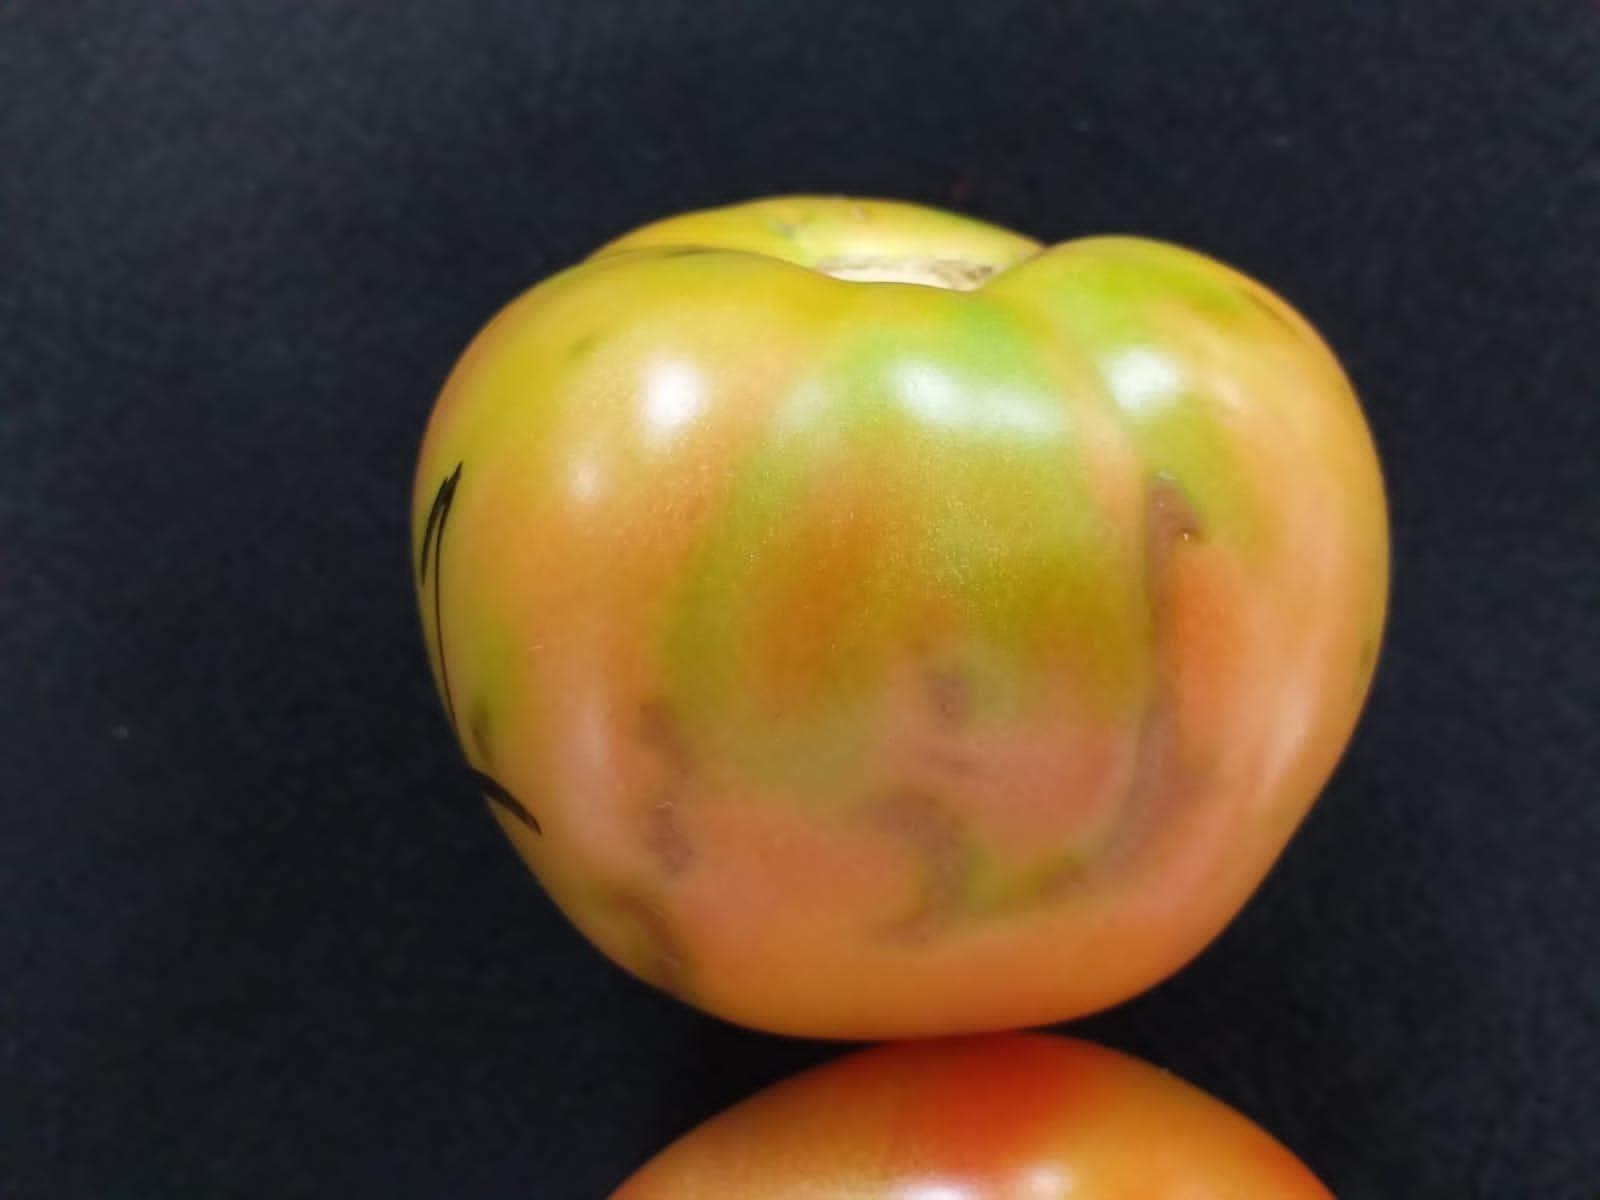Rugose tomato: (412, 195, 1390, 1039)
